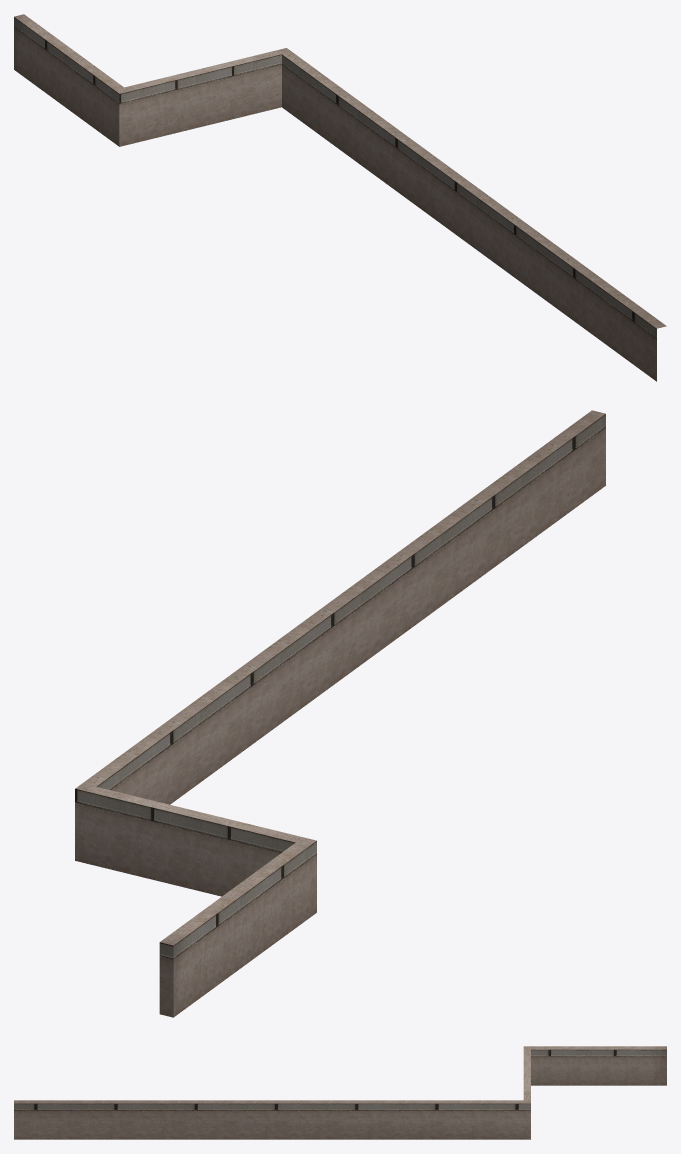
The model's file is M2Z4_BlockingWall3.glb.
The picture shows the model from 3 angles, top to bottom: view 1: azimuth 30°, elevation 25°; view 2: azimuth 150°, elevation 25°; view 3: azimuth 270°, elevation 25°; orthographic projection. The views are drawn at different scales.
Visible parts, largest first — view 1: M2Z4_BLOCKINGWALL3; view 2: M2Z4_BLOCKINGWALL3; view 3: M2Z4_BLOCKINGWALL3.
Boxes of the visible parts, <box> form: M2Z4_BLOCKINGWALL3: <box>14,14,666,381</box>; M2Z4_BLOCKINGWALL3: <box>75,410,605,1017</box>; M2Z4_BLOCKINGWALL3: <box>14,1046,666,1139</box>.
Bounding box in the file's own units: 8.5 × 2.5 × 41.
2 materials, 2 textured.
